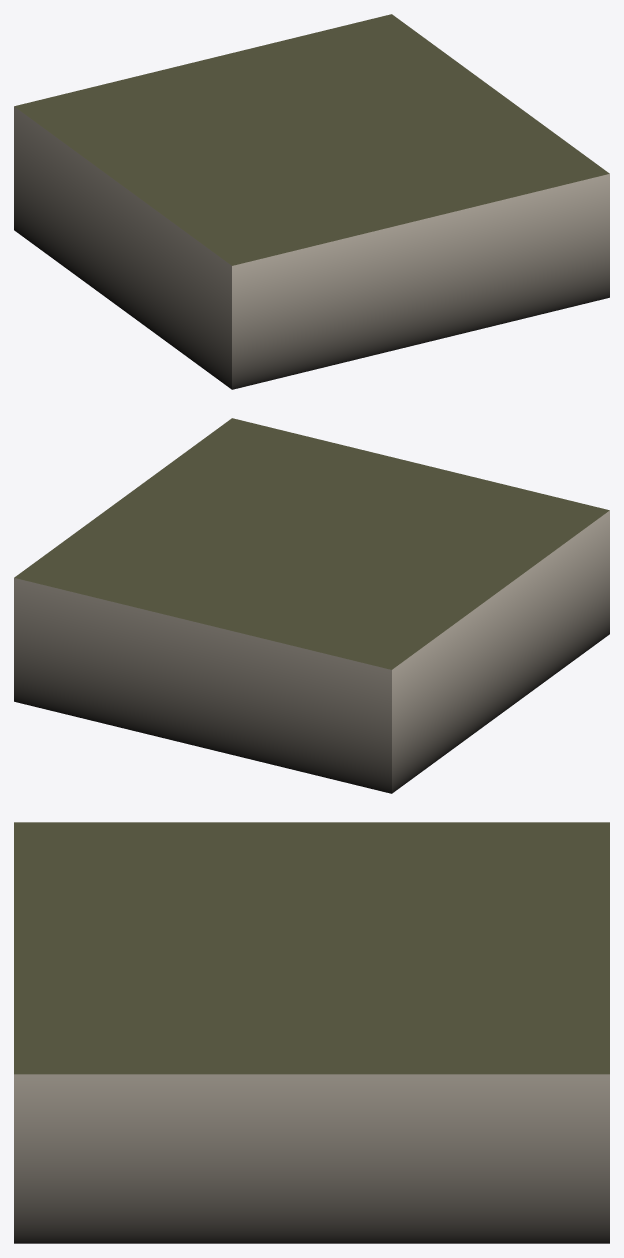
Rendered from SM_VKI_Ground_Sewer_XXXX.fbx.
The picture shows the model from 3 angles, top to bottom: view 1: azimuth 30°, elevation 25°; view 2: azimuth 150°, elevation 25°; view 3: azimuth 270°, elevation 25°; orthographic projection. The views are drawn at different scales.
Visible parts, largest first — view 1: SM_VKI_Ground_Sewer_XXXX.001; view 2: SM_VKI_Ground_Sewer_XXXX.001; view 3: SM_VKI_Ground_Sewer_XXXX.001.
Boxes of the visible parts, left/top/right/bottom form: SM_VKI_Ground_Sewer_XXXX.001: left=14, top=14, right=609, bottom=389; SM_VKI_Ground_Sewer_XXXX.001: left=14, top=418, right=609, bottom=793; SM_VKI_Ground_Sewer_XXXX.001: left=14, top=822, right=609, bottom=1243.
Size of the model in its own units: 1.5 by 0.47 by 1.5.
